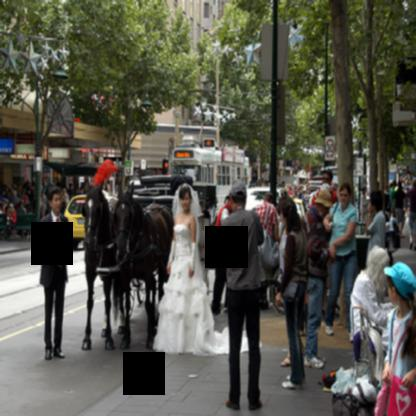handbag: (375, 326, 408, 416), (282, 227, 306, 301), (259, 203, 280, 272), (386, 374, 416, 416), (329, 204, 339, 225), (325, 229, 332, 244)
